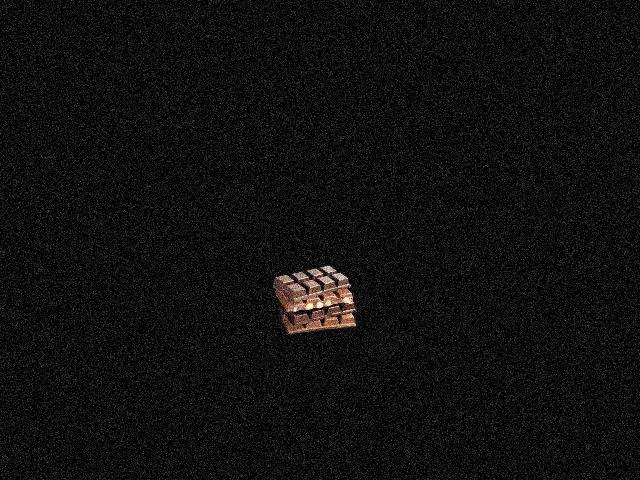chocolate: (278, 265, 355, 337)
